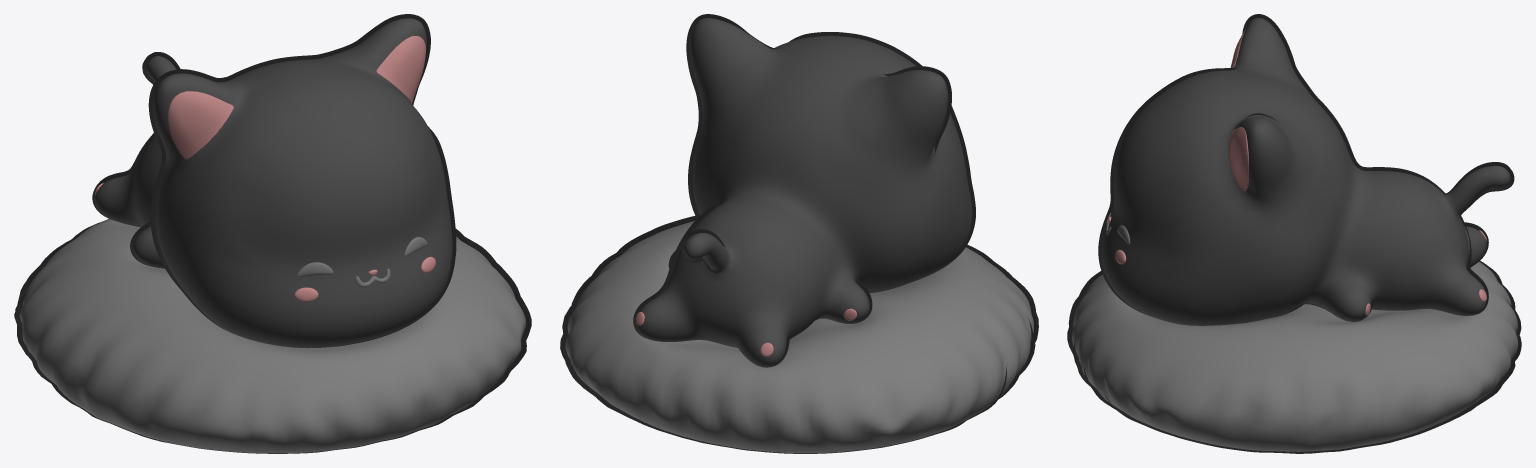
Rendered from kitty_cat.glb.
3 views of the same model, side by side, from view 1: azimuth 30°, elevation 25°; view 2: azimuth 150°, elevation 25°; view 3: azimuth 270°, elevation 25° (orthographic). The views are drawn at different scales.
Parts seen in each view (by area): view 1: AllCatStuff1_pCylinder17; view 2: AllCatStuff1_pCylinder17; view 3: AllCatStuff1_pCylinder17.
Part boxes in pixels (box(x1,y1,x2,y2)): AllCatStuff1_pCylinder17: box(14, 14, 531, 453); AllCatStuff1_pCylinder17: box(560, 14, 1038, 453); AllCatStuff1_pCylinder17: box(1067, 14, 1521, 453).
Size of the model in its own units: 4.45 by 3.29 by 4.48.
